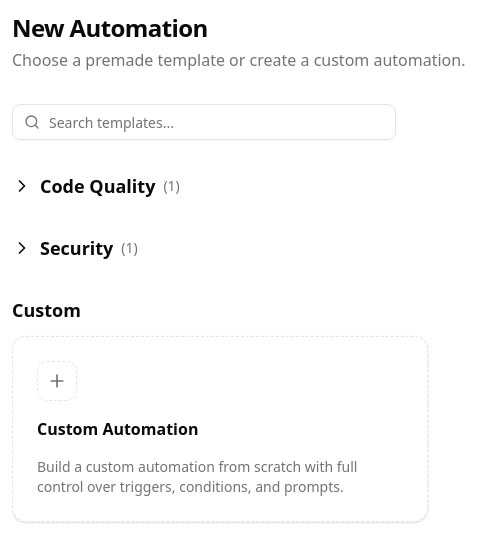
Test: AutomationNewPage › should show no results message when search has no matches
The image size is (482, 540).
Expected: the text "Code Quality" is shown, [40,172,155,200]
Type "nonexistent" into the field with placeholder "Search templates..." at (204, 122), box [12,104,396,140]
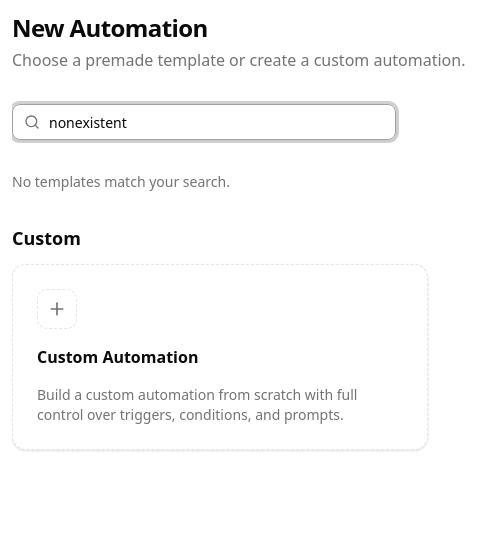
Now the text "No templates match your search." is shown, box [12,172,230,191]
